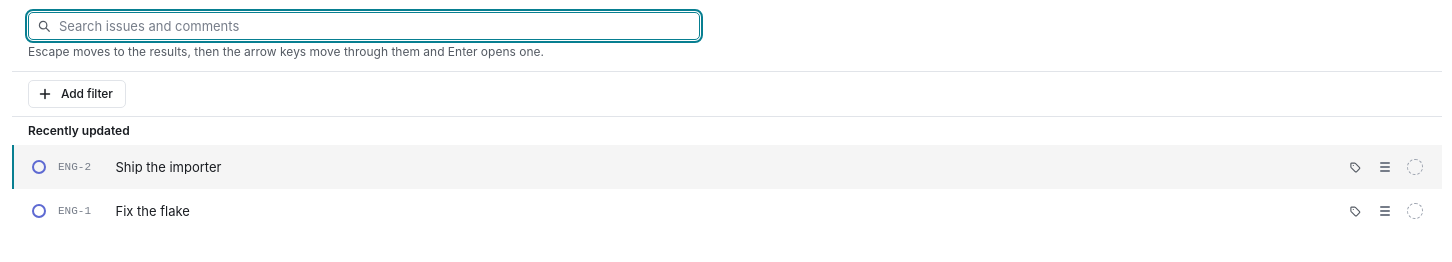
Test: Search › shows a comment with the issue it is on, and links to that issue
The width and height of the screenshot is (1452, 262).
Type "flake" into the search field labelled "Search" at (375, 26), box [59,13,691,39]
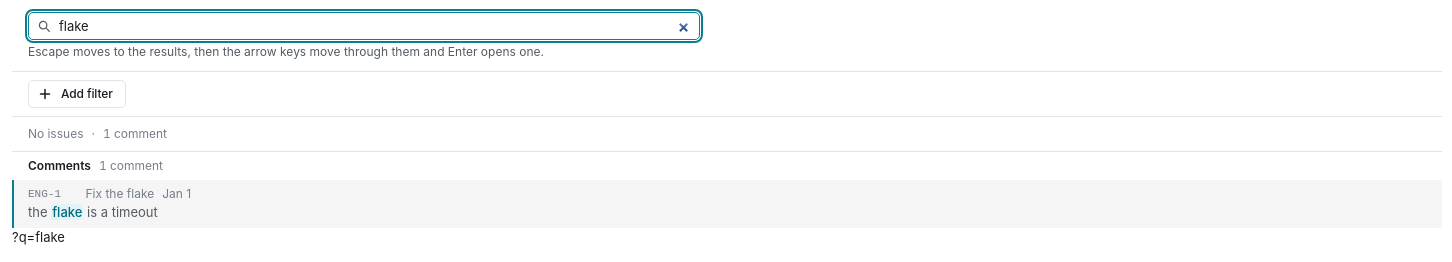
Expected: the list shows "ENG-1", [12,180,1442,228]
Expected: the list shows "the flake is a timeout", [12,152,1442,228]
